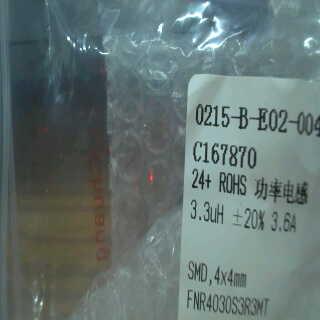3.3uH: (185, 196, 226, 234)
